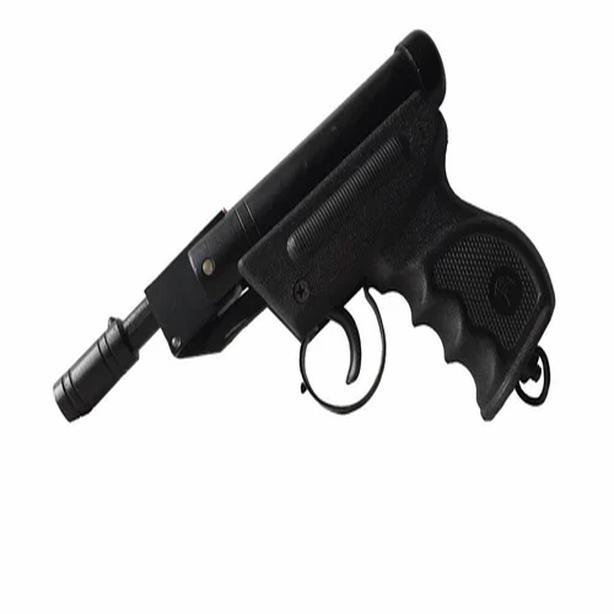Firearm: (50, 13, 582, 497)
